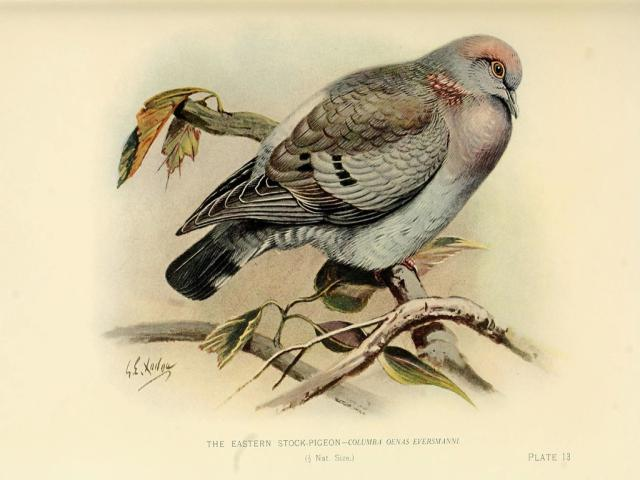Bird: (122, 45, 526, 307)
